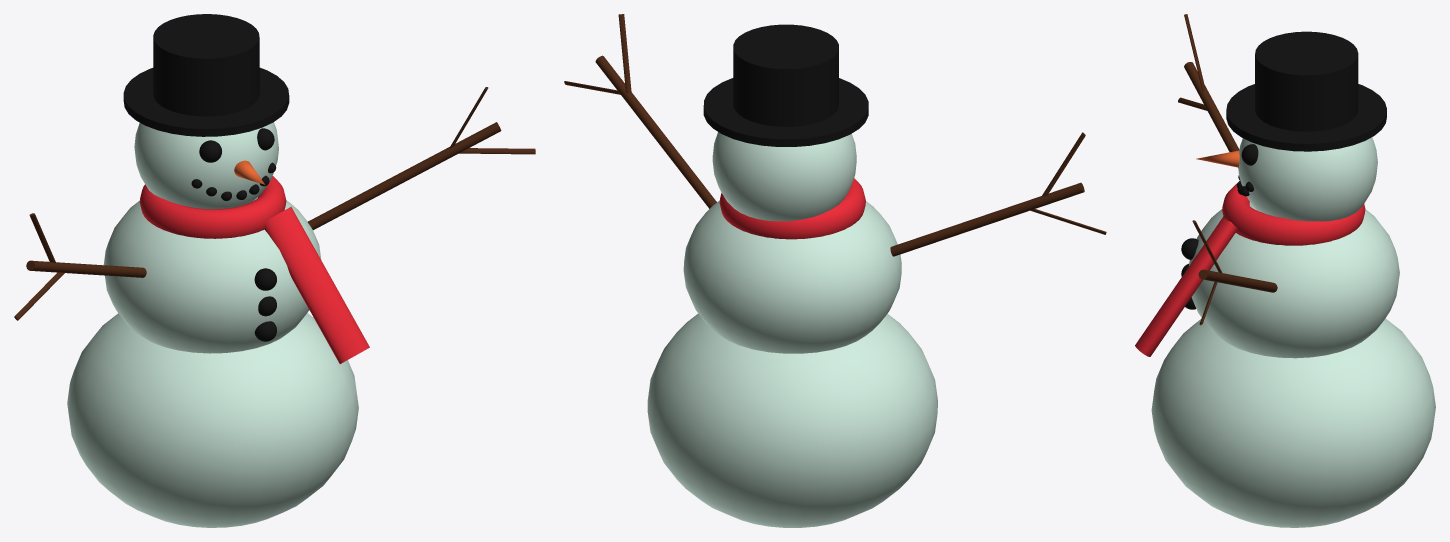
Rendered from snowman.fbx.
3 renders of one model, left to right at view 1: azimuth 30°, elevation 25°; view 2: azimuth 150°, elevation 25°; view 3: azimuth 270°, elevation 25°, orthographic. The views are drawn at different scales.
Parts seen in each view (by area): view 1: Sphere, Sphere.001, Cylinder.002, Sphere.002, Cylinder, Cylinder.001, Torus, Cylinder.015, Cylinder.009; view 2: Sphere, Sphere.001, Cylinder.002, Sphere.002, Cylinder.001, Torus, Cylinder.009, Cylinder.015; view 3: Sphere, Sphere.001, Cylinder.002, Sphere.002, Cylinder.001, Torus, Cylinder, Cylinder.009, Cylinder.015, Cone.
Part boxes in pixels (x1=…): Sphere: x1=67, y1=313, x2=358, y2=527; Sphere.001: x1=103, y1=197, x2=321, y2=353; Cylinder.002: x1=153, y1=14, x2=259, y2=116; Sphere.002: x1=134, y1=122, x2=278, y2=209; Cylinder: x1=264, y1=207, x2=369, y2=363; Cylinder.001: x1=123, y1=67, x2=289, y2=136; Torus: x1=139, y1=176, x2=286, y2=238; Cylinder.015: x1=308, y1=122, x2=501, y2=230; Cylinder.009: x1=26, y1=260, x2=146, y2=277; Sphere: x1=647, y1=313, x2=937, y2=527; Sphere.001: x1=683, y1=200, x2=901, y2=353; Cylinder.002: x1=733, y1=24, x2=838, y2=126; Sphere.002: x1=712, y1=132, x2=856, y2=221; Cylinder.001: x1=703, y1=78, x2=868, y2=146; Torus: x1=719, y1=178, x2=865, y2=239; Cylinder.009: x1=890, y1=182, x2=1084, y2=256; Cylinder.015: x1=595, y1=55, x2=716, y2=208; Sphere: x1=1151, y1=318, x2=1435, y2=527; Sphere.001: x1=1189, y1=202, x2=1399, y2=358; Cylinder.002: x1=1255, y1=31, x2=1358, y2=131; Sphere.002: x1=1238, y1=137, x2=1377, y2=221; Cylinder.001: x1=1226, y1=84, x2=1386, y2=151; Torus: x1=1222, y1=183, x2=1365, y2=245; Cylinder: x1=1135, y1=216, x2=1237, y2=356; Cylinder.009: x1=1184, y1=62, x2=1239, y2=151; Cylinder.015: x1=1198, y1=269, x2=1277, y2=292; Cone: x1=1196, y1=150, x2=1239, y2=167.
Bounding box in the file's own units: 421 × 356 × 212.
